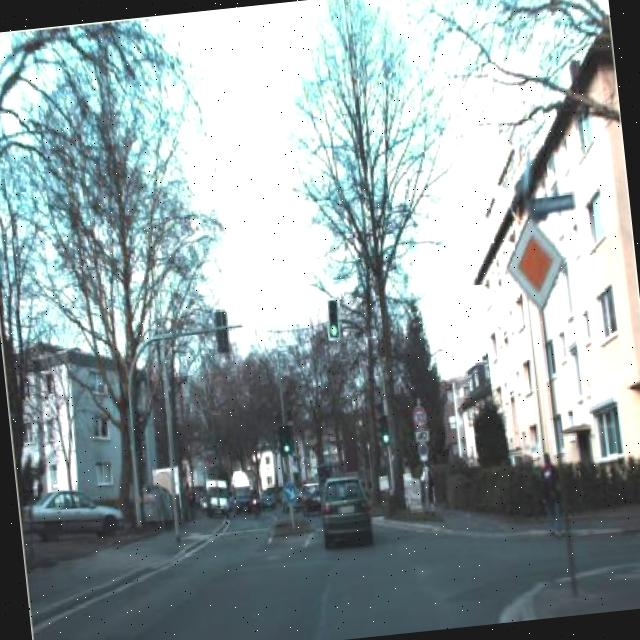Ograniczenie predkosci do 30: (409, 402, 430, 432)
